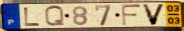7: (94, 4, 113, 27)
8: (72, 6, 90, 27)
F: (120, 4, 143, 27)
L: (23, 7, 42, 27)
Q: (44, 5, 67, 28)
V: (141, 3, 167, 26)
